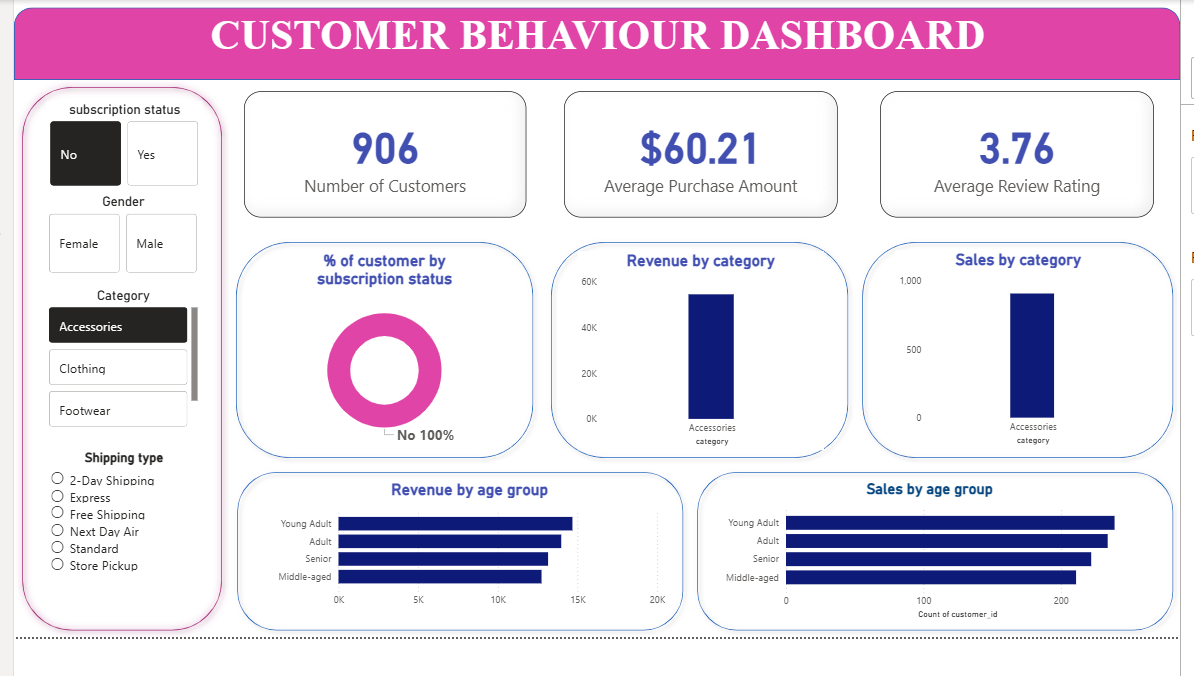

What the dashboard file says about the page in this screenshot:
{"tool":"powerbi","page":{"name":"Page 1","canvas":[1500,820],"ordinal":0},"visuals":[{"type":"card","fields":{"Values":["customer_shopping_behavior_cleaned.Number of Customers"]},"box":[295.9,117.4,363.4,162.4],"z":0},{"type":"card","fields":{"Values":["customer_shopping_behavior_cleaned.Average Purchase Amount"]},"box":[707.5,117.4,352.2,162.4],"z":1000},{"type":"card","fields":{"Values":["customer_shopping_behavior_cleaned.Average Review Rating"]},"box":[1114.4,117.4,352.2,162.4],"z":2000},{"type":"shape","box":[0,9.6,1500.3,93.3],"z":3000},{"type":"textbox","box":[1.6,9.6,1498.7,83.6],"z":4000},{"type":"donutChart","title":"% of customer by subscription status","fields":{"Category":["customer_shopping_behavior_cleaned.subscription_status"],"Y":["CountNonNull(customer_shopping_behavior_cleaned.customer_id)"]},"box":[308.7,323.2,336.1,255.7],"z":5000},{"type":"shape","box":[681.8,302.3,400.4,295.9],"z":6000},{"type":"shape","box":[1082.2,302.3,418.1,295.9],"z":7000},{"type":"shape","box":[276.6,302.3,400.4,295.9],"z":8000},{"type":"clusteredColumnChart","title":"Revenue by category","fields":{"Y":["Sum(customer_shopping_behavior_cleaned.purchase_amount)"],"Category":["customer_shopping_behavior_cleaned.category"]},"box":[725.2,323.2,316.8,255.7],"z":9000},{"type":"clusteredColumnChart","title":"Sales by category","fields":{"Y":["CountNonNull(customer_shopping_behavior_cleaned.customer_id)"],"Category":["customer_shopping_behavior_cleaned.category"]},"box":[1133.7,321.6,316.8,255.7],"z":10000},{"type":"shape","box":[1.6,102.9,275,717.2],"z":11000},{"type":"advancedSlicerVisual","title":"subscription status","fields":{"Values":["customer_shopping_behavior_cleaned.subscription_status"]},"box":[41.8,130.3,201,114.2],"z":12000},{"type":"advancedSlicerVisual","title":"Gender","fields":{"Values":["customer_shopping_behavior_cleaned.gender"]},"box":[40.2,249.3,201,107.7],"z":13000},{"type":"advancedSlicerVisual","title":"Category","fields":{"Values":["customer_shopping_behavior_cleaned.category"]},"box":[40.2,369.9,201,184.9],"z":14000},{"type":"listSlicer","title":"Shipping type","fields":{"Values":["customer_shopping_behavior_cleaned.shipping_type"]},"box":[41.8,578.9,199.4,210.7],"z":14001},{"type":"clusteredBarChart","title":"Revenue by age group","fields":{"Y":["Sum(customer_shopping_behavior_cleaned.purchase_amount)"],"Category":["customer_shopping_behavior_cleaned.age_group"]},"box":[329.7,617.5,513,172.1],"z":14002},{"type":"shape","box":[278.2,598.2,591.8,221.9],"z":14003},{"type":"shape","box":[870,598.2,630.4,221.9],"z":14004},{"type":"clusteredBarChart","title":"Sales by age group","fields":{"Y":["CountNonNull(customer_shopping_behavior_cleaned.customer_id)"],"Category":["customer_shopping_behavior_cleaned.age_group"]},"box":[905.3,617.5,545.1,183.3],"z":14005}]}

Visuals, with their boxes on the page's 1500x820 design canvas (x1, y1, x2, y2). These are canvas units, not pixel positions in the 1194x676 screenshot, which may show the page scaled, cropped or inside an application window:
card - customer_shopping_behavior_cleaned.Number of Customers: x1=296, y1=117, x2=659, y2=280
card - customer_shopping_behavior_cleaned.Average Purchase Amount: x1=708, y1=117, x2=1060, y2=280
card - customer_shopping_behavior_cleaned.Average Review Rating: x1=1114, y1=117, x2=1467, y2=280
shape: x1=0, y1=10, x2=1500, y2=103
textbox: x1=2, y1=10, x2=1500, y2=93
"% of customer by subscription status" donutChart: x1=309, y1=323, x2=645, y2=579
shape: x1=682, y1=302, x2=1082, y2=598
shape: x1=1082, y1=302, x2=1500, y2=598
shape: x1=277, y1=302, x2=677, y2=598
"Revenue by category" clusteredColumnChart: x1=725, y1=323, x2=1042, y2=579
"Sales by category" clusteredColumnChart: x1=1134, y1=322, x2=1450, y2=577
shape: x1=2, y1=103, x2=277, y2=820
"subscription status" advancedSlicerVisual: x1=42, y1=130, x2=243, y2=244
"Gender" advancedSlicerVisual: x1=40, y1=249, x2=241, y2=357
"Category" advancedSlicerVisual: x1=40, y1=370, x2=241, y2=555
"Shipping type" listSlicer: x1=42, y1=579, x2=241, y2=790
"Revenue by age group" clusteredBarChart: x1=330, y1=618, x2=843, y2=790
shape: x1=278, y1=598, x2=870, y2=820
shape: x1=870, y1=598, x2=1500, y2=820
"Sales by age group" clusteredBarChart: x1=905, y1=618, x2=1450, y2=801
